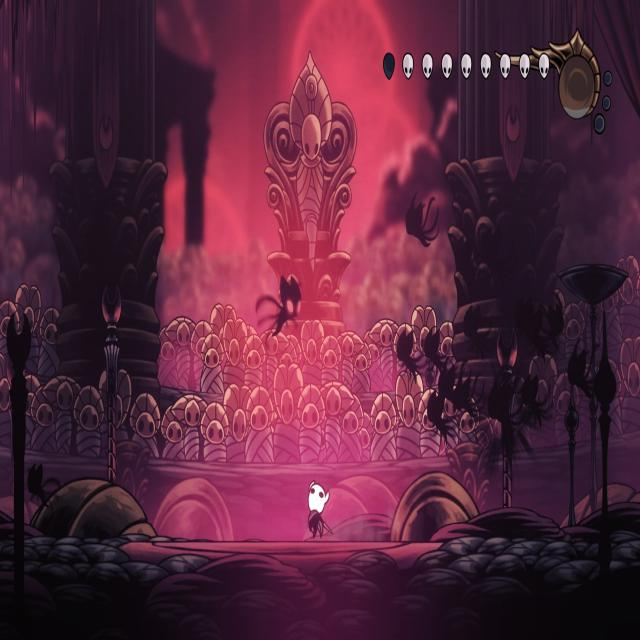Player: (305, 476, 331, 540)
Staggered_Grimm: (254, 270, 304, 341)
